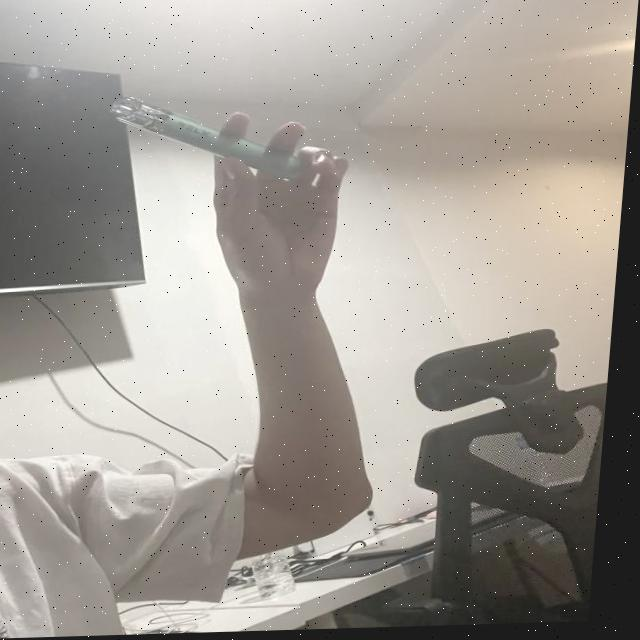vape: (107, 93, 322, 193)
